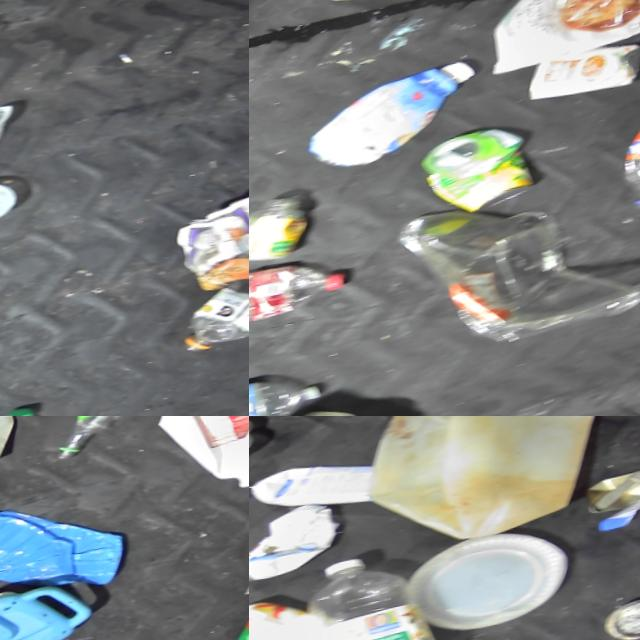can: (414, 123, 551, 226), (513, 38, 640, 112), (598, 596, 640, 640)
milk_jug: (344, 416, 617, 561), (150, 416, 249, 524)
plastic_bottle: (293, 550, 448, 640), (249, 250, 351, 335), (39, 416, 145, 463), (603, 107, 640, 224)
